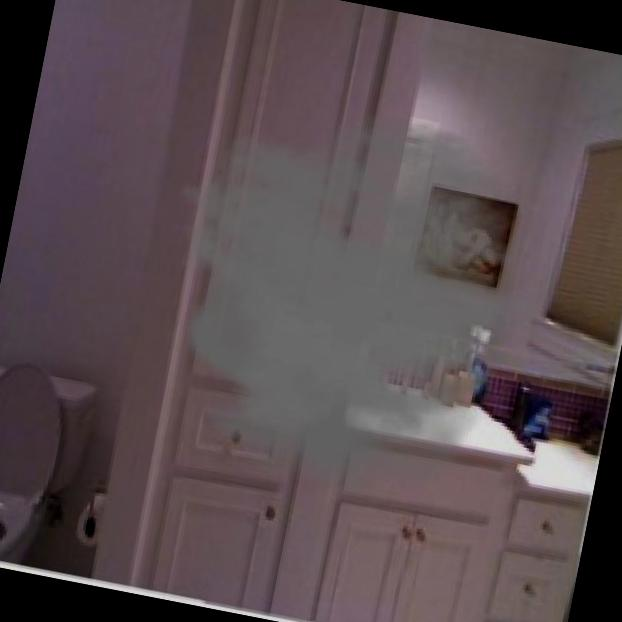smoke: (126, 75, 589, 527)
